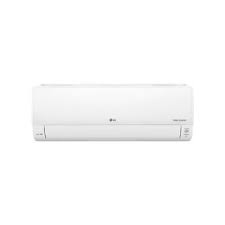ac: (27, 81, 196, 146)
